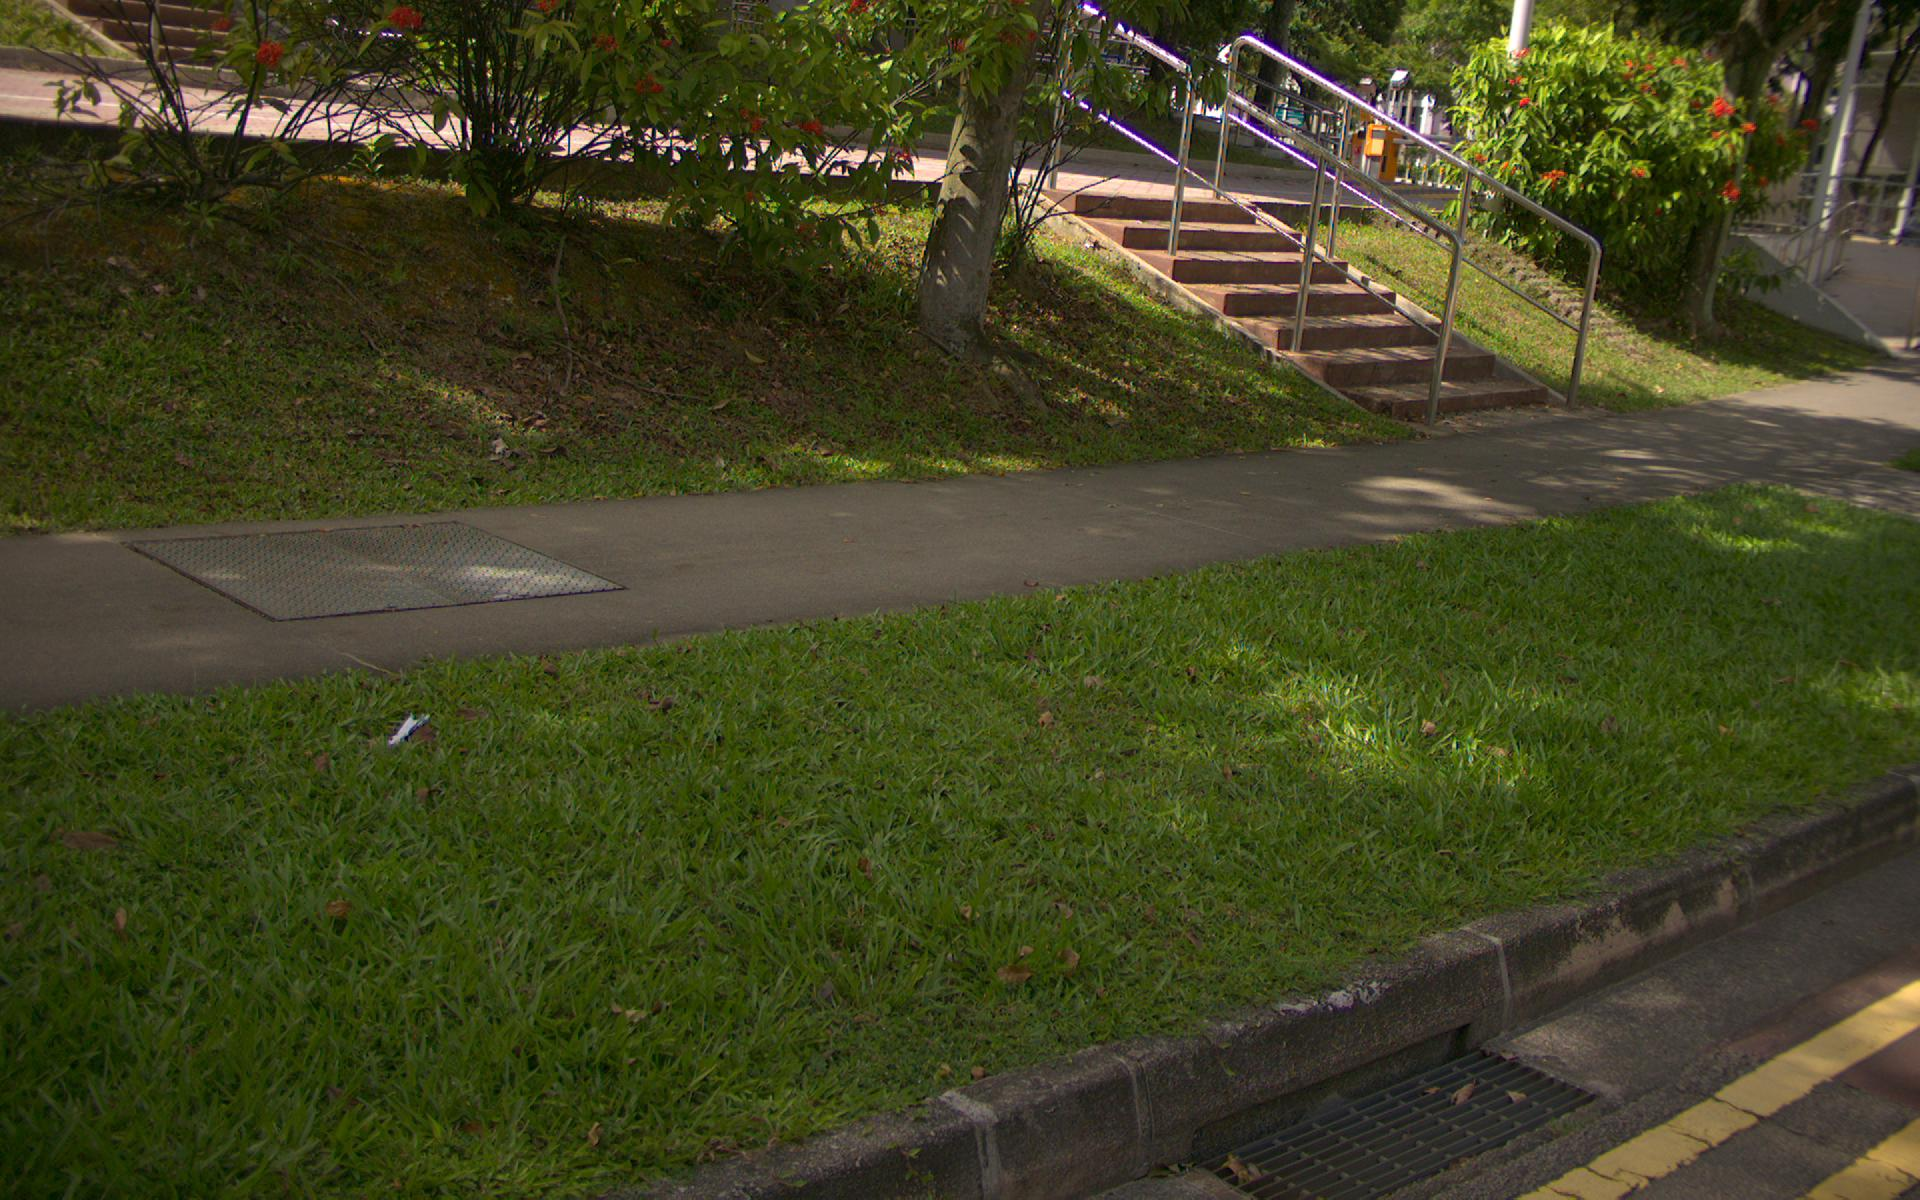curb_grill_low: (1192, 1041, 1603, 1194)
road_turf_low: (17, 485, 1914, 1185)
